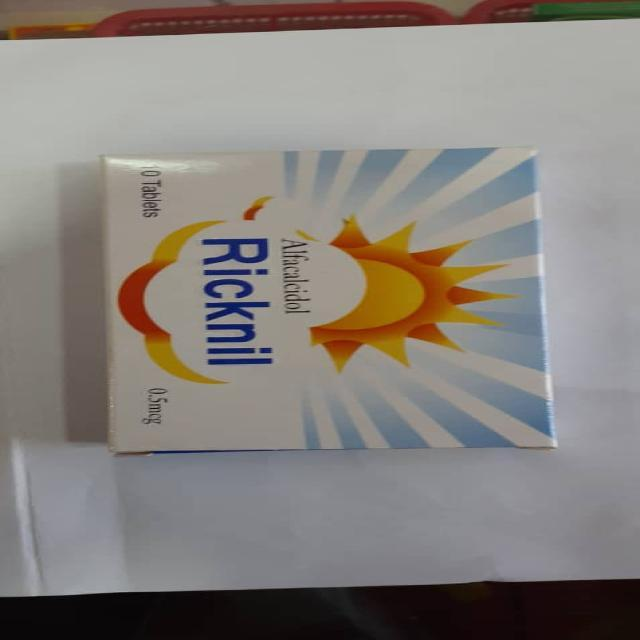drug-name: (199, 236, 275, 370)
